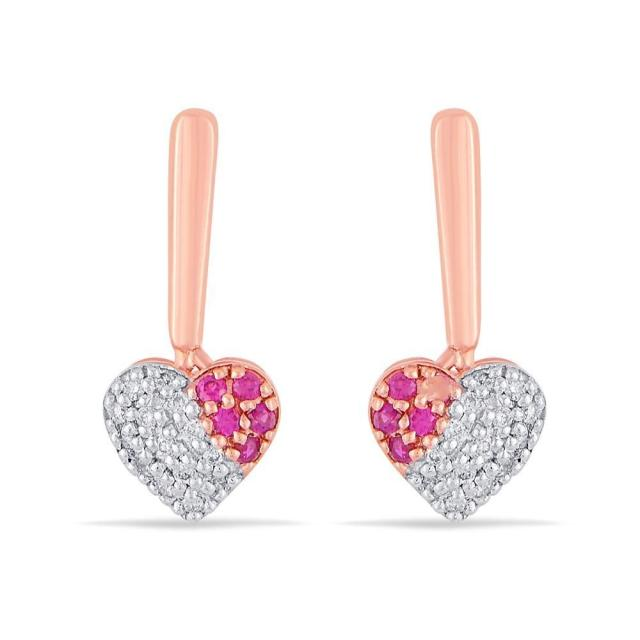missing gem: (421, 375, 450, 402)
